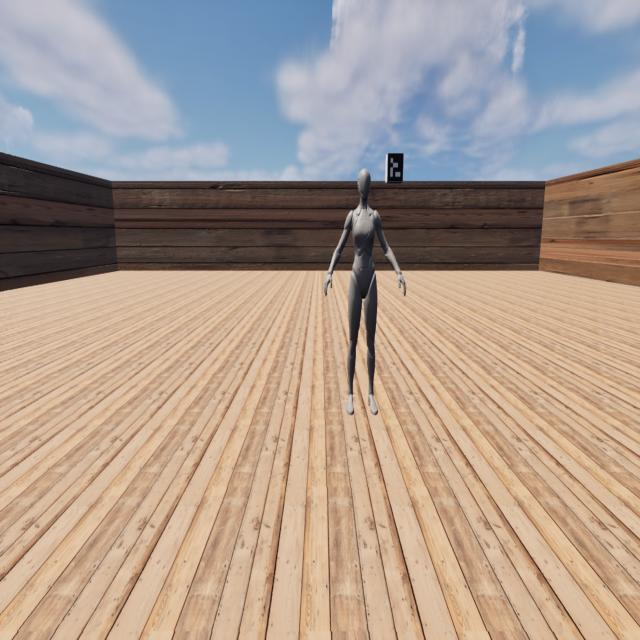aruco: (387, 153, 404, 182)
hip: (350, 272, 377, 283)
